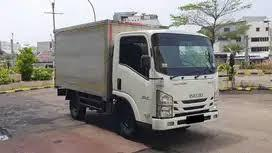truck: (108, 22, 231, 139)
